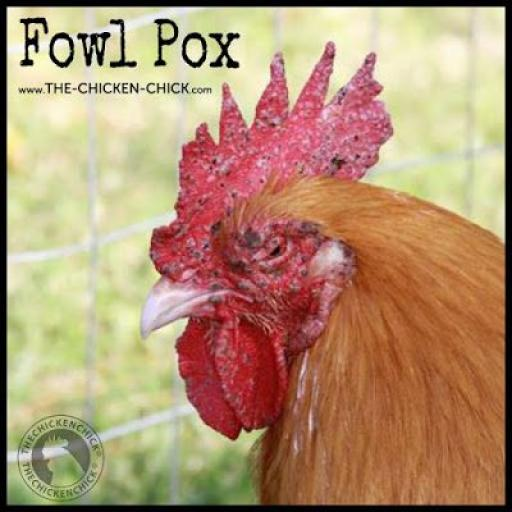disease: (206, 63, 405, 213), (113, 119, 236, 300), (214, 209, 360, 360), (150, 320, 303, 438)
